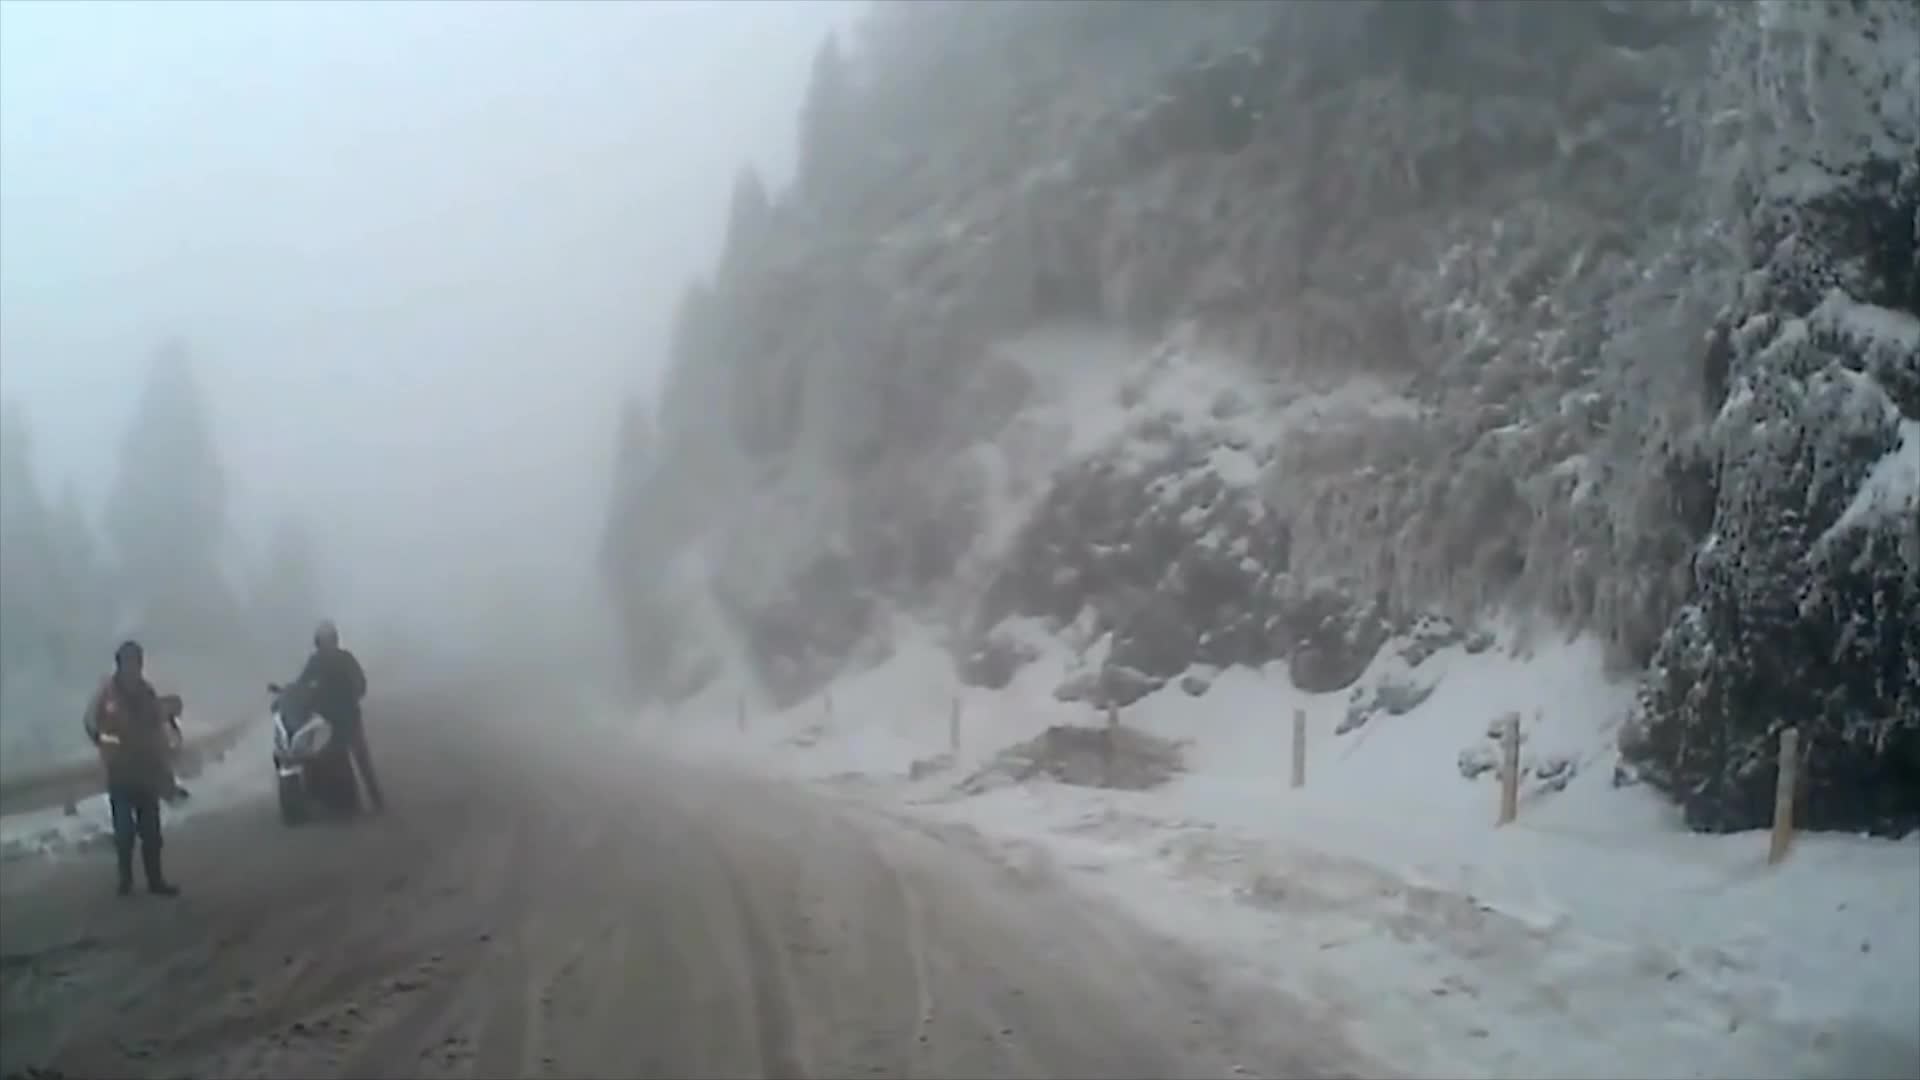pedestrian: (82, 643, 179, 901), (279, 617, 394, 825)
